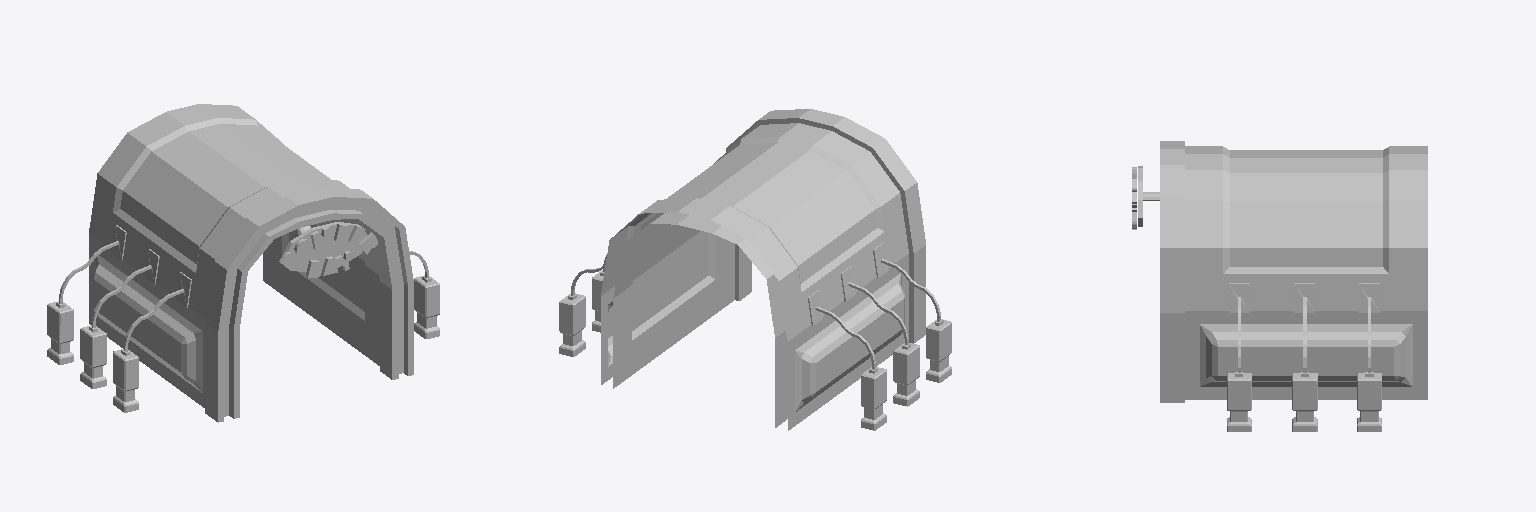
The model's file is BomberSpawn.obj.
The picture shows the model from 3 angles: view 1: azimuth 30°, elevation 25°; view 2: azimuth 150°, elevation 25°; view 3: azimuth 270°, elevation 25°; orthographic projection.
Parts seen in each view (by area): view 1: MainStructure BomberBase, BomberBase Deatail; view 2: MainStructure BomberBase, BomberBase Deatail; view 3: MainStructure BomberBase, BomberBase Deatail.
Part boxes in pixels (left/top/right/bottom): MainStructure BomberBase: left=89, top=104, right=413, bottom=422; BomberBase Deatail: left=47, top=222, right=439, bottom=412; MainStructure BomberBase: left=601, top=109, right=925, bottom=430; BomberBase Deatail: left=559, top=242, right=951, bottom=430; MainStructure BomberBase: left=1160, top=141, right=1427, bottom=402; BomberBase Deatail: left=1132, top=166, right=1381, bottom=431.
Size of the model in its own units: 1443 by 863 by 1167.